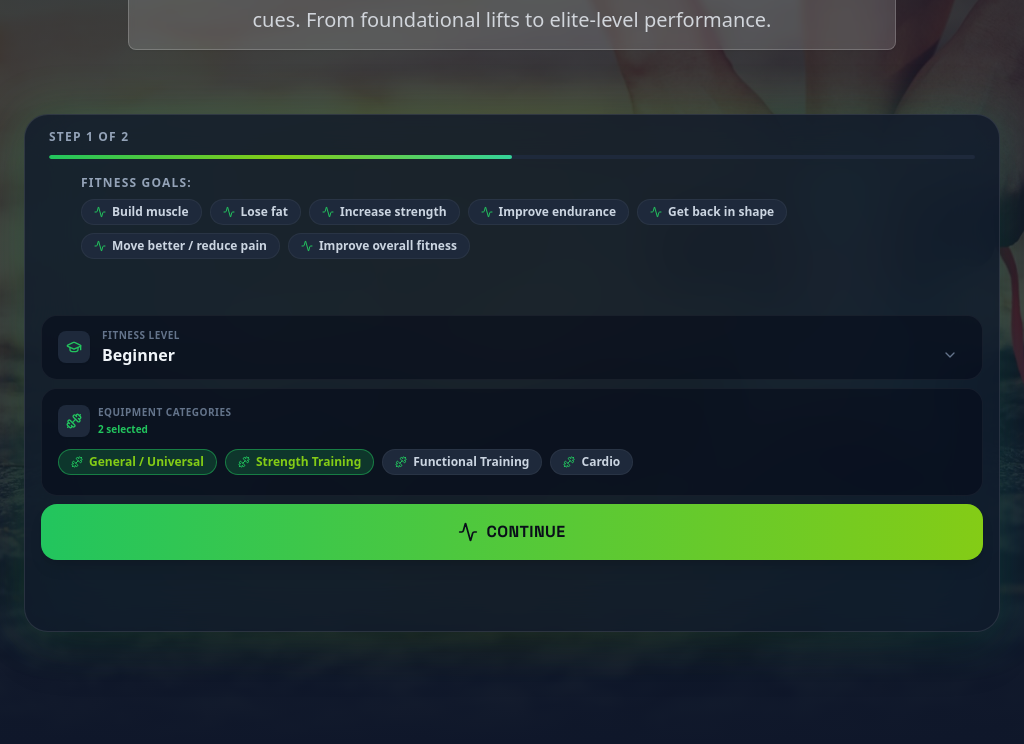
it: OnboardingWizard › should show error when continuing without selecting fitness goals
(page scrolled)
Click the button "CONTINUE".
click(512, 532)  # box top-left (41, 504), bottom-right (983, 560)
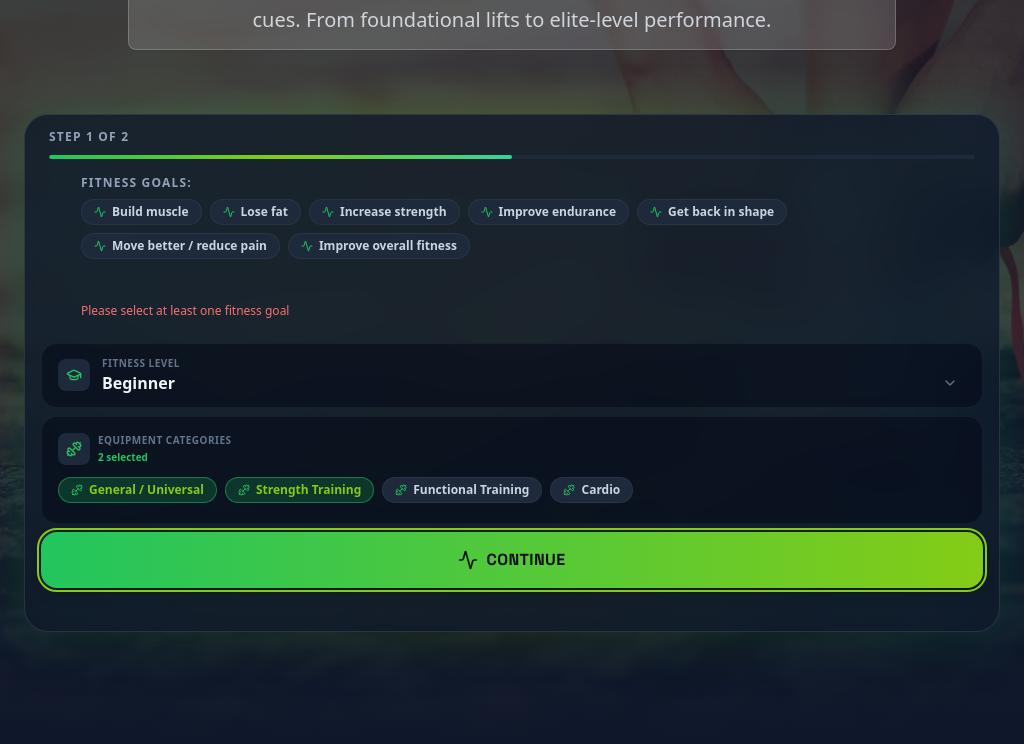
Result: the text "Please select at least one fitness goal" is shown at top-left (81, 302), bottom-right (290, 319)
